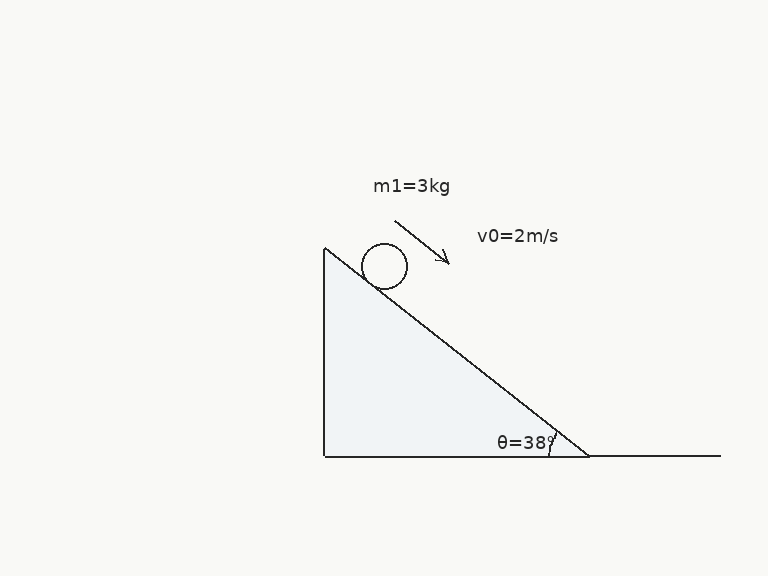ball: (359, 241, 409, 291)
ramp: (321, 247, 591, 458)
